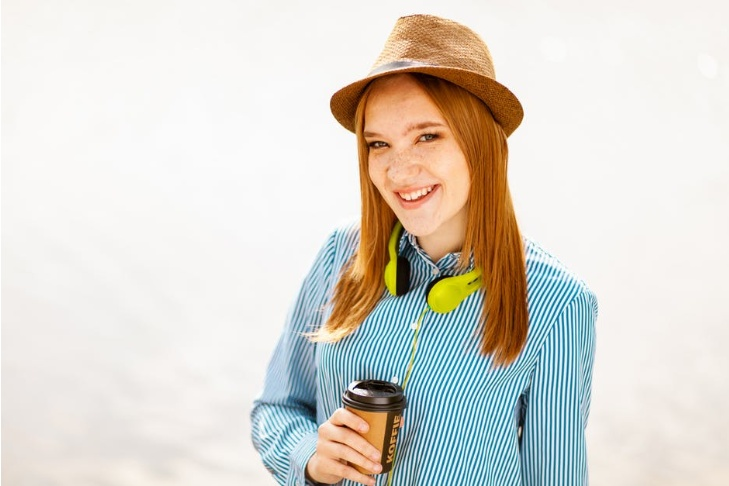face: (365, 83, 471, 235)
